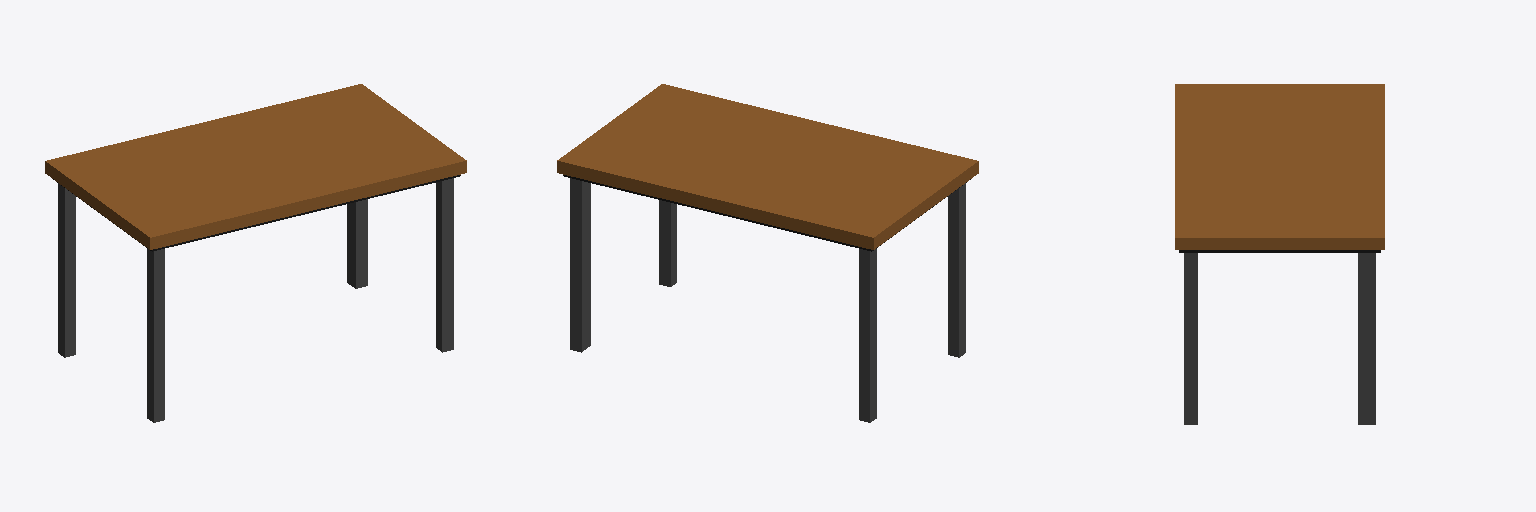
3 renders of one model, left to right at view 1: azimuth 30°, elevation 25°; view 2: azimuth 150°, elevation 25°; view 3: azimuth 270°, elevation 25°, orthographic.
Visible parts, largest first — view 1: table; view 2: table; view 3: table.
Part boxes in pixels (x1,y1,x2,y2): table: (45,84,466,422); table: (557,84,978,422); table: (1175,84,1384,424).
Bounding box in the file's own units: 8 × 4.6 × 4.6.
1 materials, 1 textured.